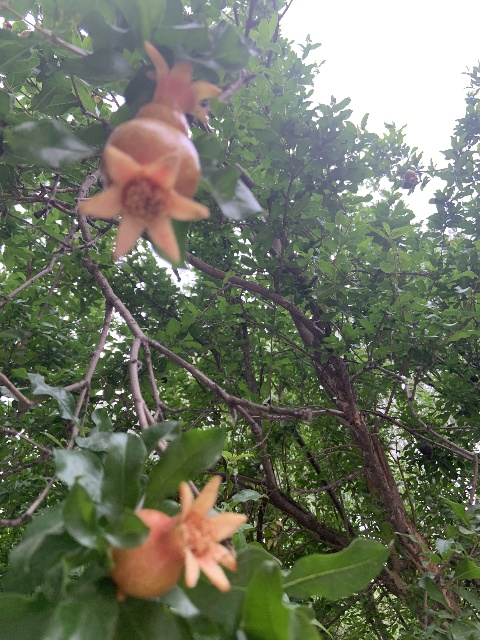early-fruit: (77, 120, 210, 265), (109, 475, 247, 599), (135, 40, 222, 136)
mid-growth: (404, 170, 415, 182)
